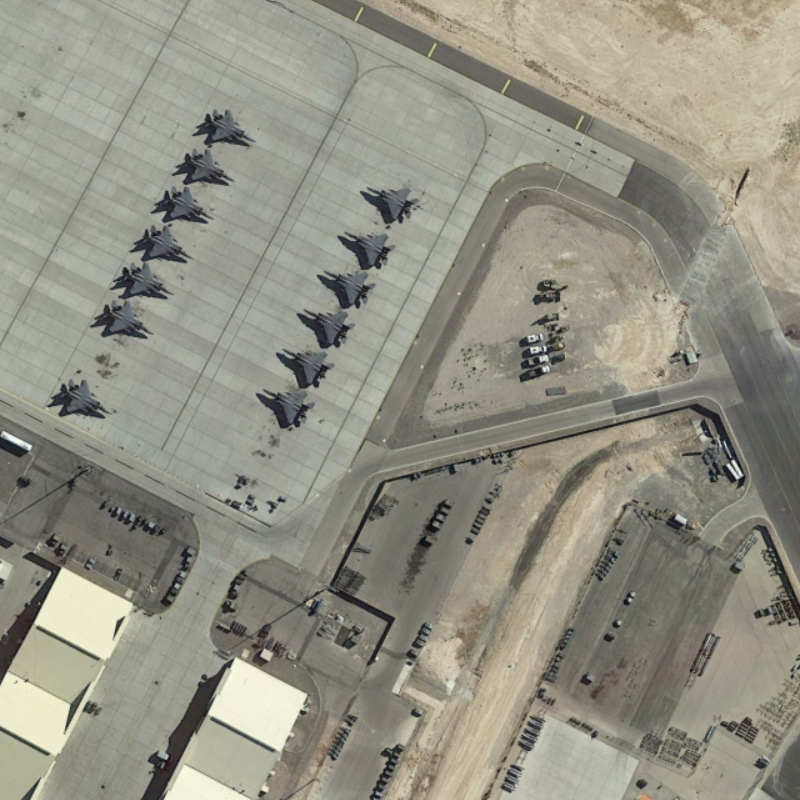A13: (52, 375, 115, 422), (97, 297, 156, 342), (280, 345, 337, 390), (261, 387, 318, 429), (137, 221, 194, 263), (116, 260, 177, 299), (197, 107, 258, 146), (301, 306, 358, 347), (364, 181, 422, 221), (180, 147, 238, 186), (322, 267, 377, 308), (157, 185, 216, 223), (341, 229, 399, 267)
